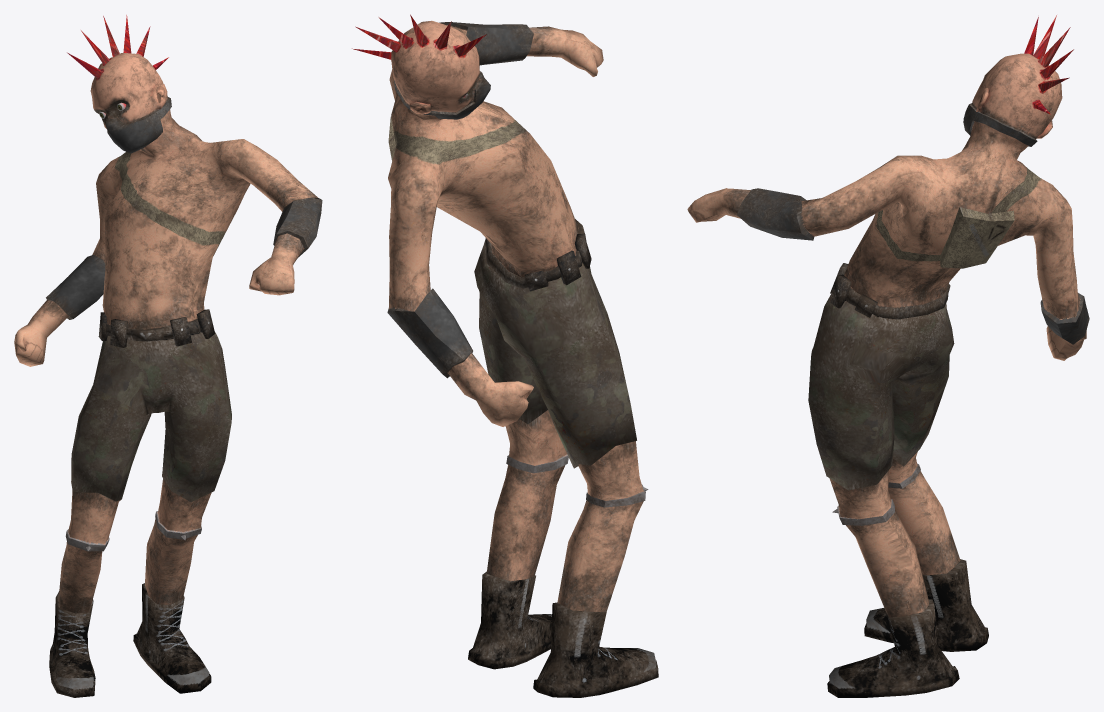
File: Anim_recibirdanyo_1_npc2.0020.obj
3 renders of one model, left to right at view 1: azimuth 30°, elevation 25°; view 2: azimuth 150°, elevation 25°; view 3: azimuth 270°, elevation 25°, orthographic. The views are drawn at different scales.
Visible parts, largest first — view 1: polySurface1; view 2: polySurface1; view 3: polySurface1.
Boxes of the visible parts, x1,y1,x2,y2 form: polySurface1: [14, 15, 322, 697]; polySurface1: [352, 14, 658, 697]; polySurface1: [687, 15, 1089, 697].
Bounding box in the file's own units: 3.66 × 9.2 × 5.
